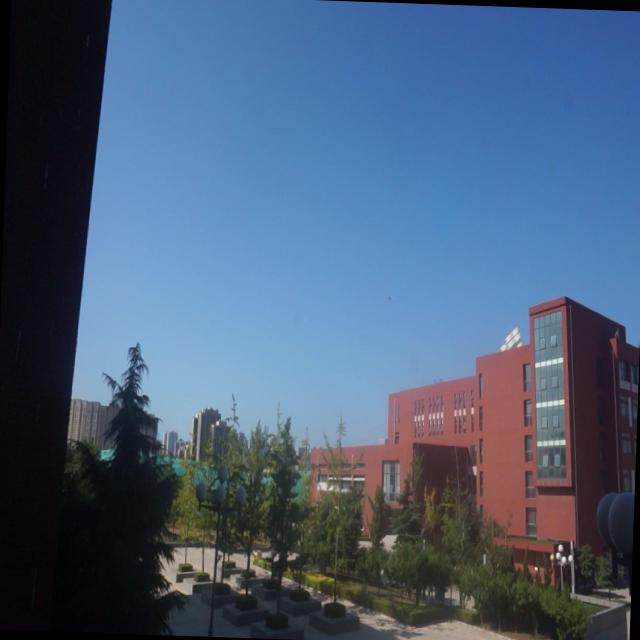drone: (384, 290, 395, 303)
